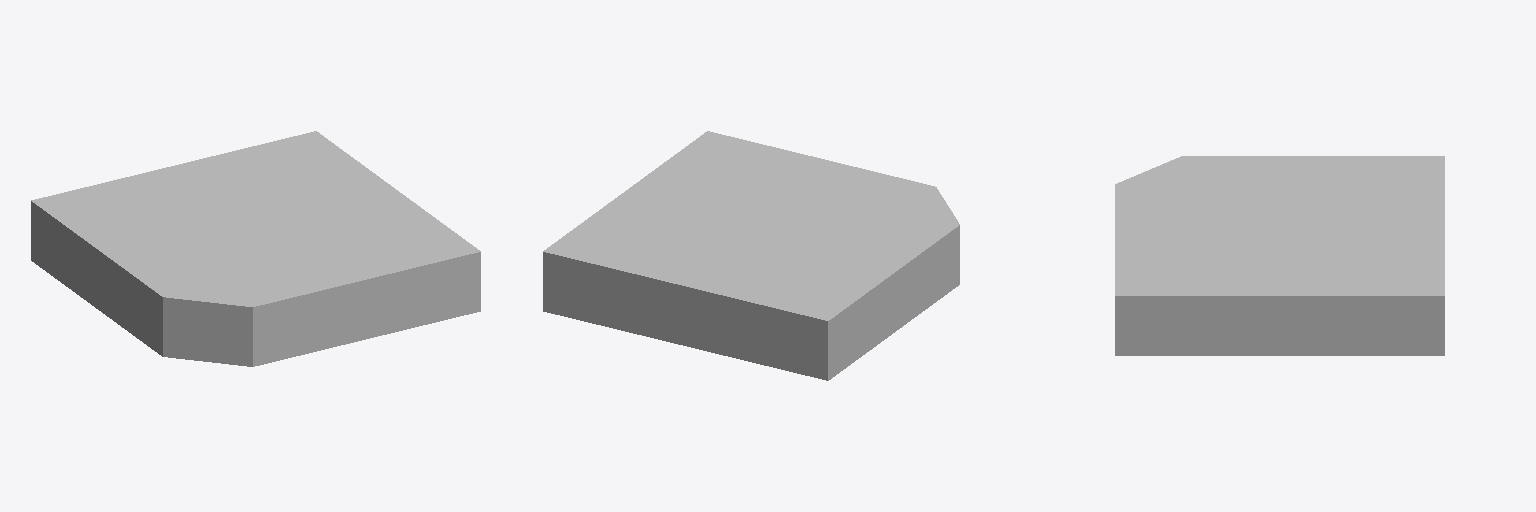
File: RoadCorner1.obj
3 renders of one model, left to right at view 1: azimuth 30°, elevation 25°; view 2: azimuth 150°, elevation 25°; view 3: azimuth 270°, elevation 25°, orthographic.
Parts seen in each view (by area): view 1: CUBE1; view 2: CUBE1; view 3: CUBE1.
Part boxes in pixels (bbox=[...]): CUBE1: bbox=[31, 131, 480, 366]; CUBE1: bbox=[543, 131, 959, 380]; CUBE1: bbox=[1115, 156, 1444, 355].
Size of the model in its own units: 5 by 1 by 5.